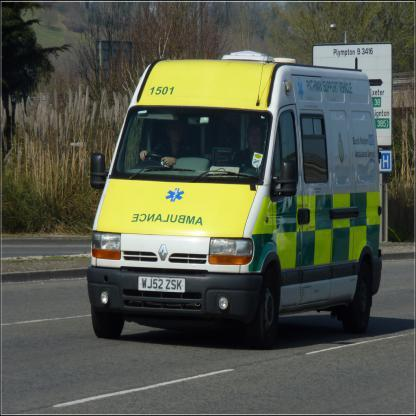Ambulance - v1 Ambulance last generate: (84, 47, 380, 345)
